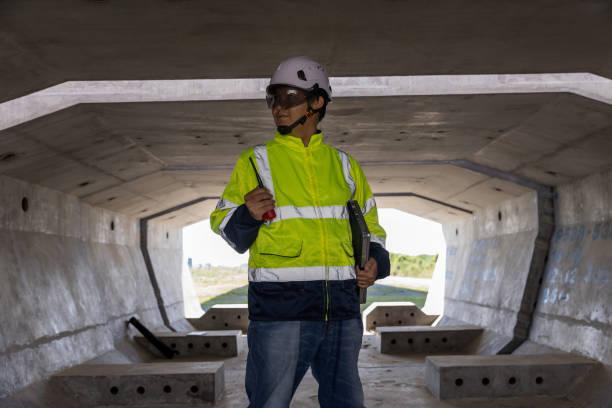goggle: (263, 91, 318, 108)
helmet: (255, 51, 339, 94)
vest: (209, 136, 389, 323)
